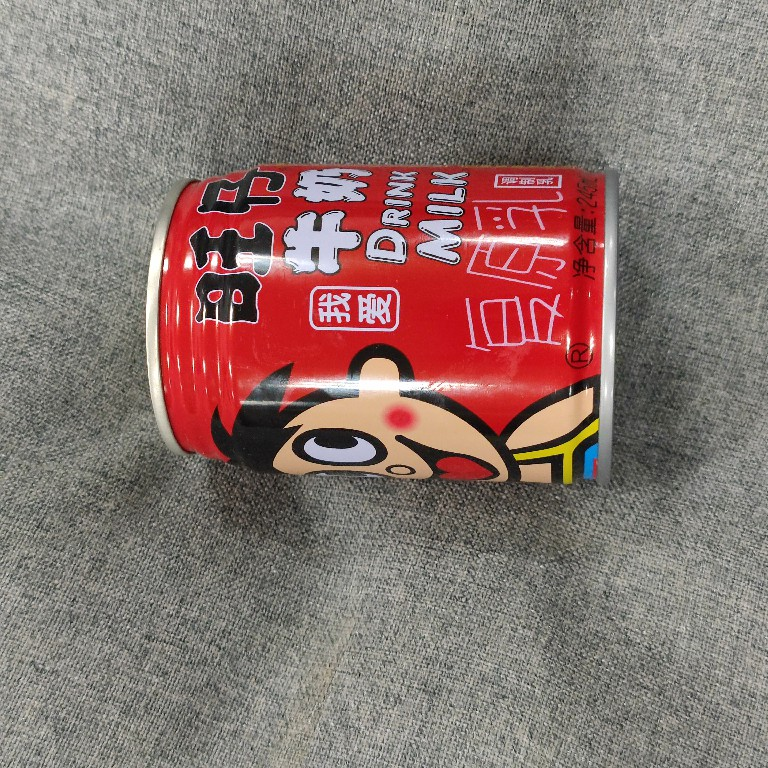can: (139, 160, 623, 491)
